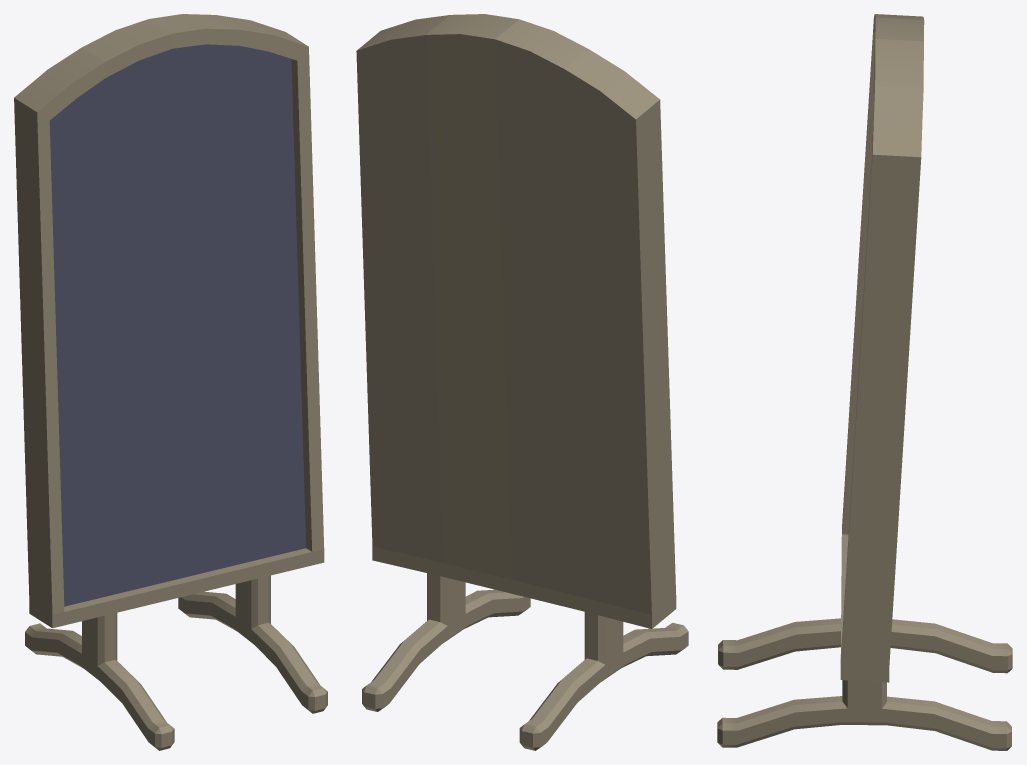
File: mirror.fbx
The picture shows the model from 3 angles, left to right: view 1: azimuth 30°, elevation 25°; view 2: azimuth 150°, elevation 25°; view 3: azimuth 270°, elevation 25°; orthographic projection. The views are drawn at different scales.
Visible parts, largest first — view 1: mirror; view 2: mirror; view 3: mirror.
Part boxes in pixels (bbox=[...]): mirror: bbox=[14, 14, 327, 750]; mirror: bbox=[356, 14, 688, 750]; mirror: bbox=[717, 14, 1012, 750].
Bounding box in the file's own units: 0.905 × 2.05 × 0.82.
